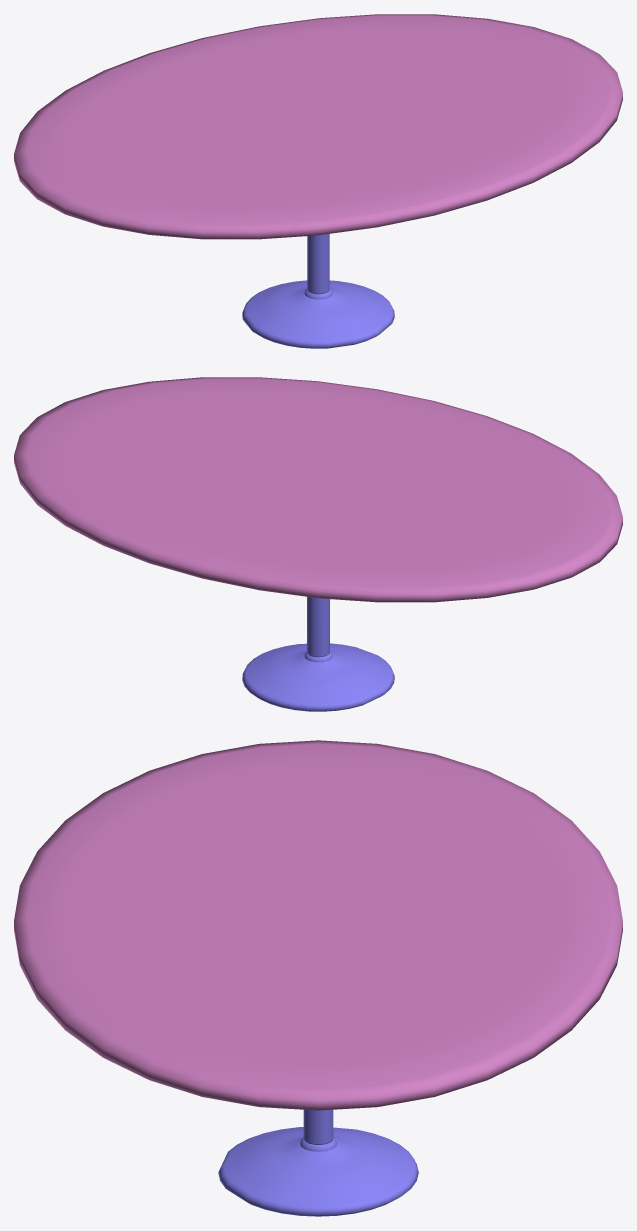
The model's file is PK_Table.fbx.
The picture shows the model from 3 angles, top to bottom: view 1: azimuth 30°, elevation 25°; view 2: azimuth 150°, elevation 25°; view 3: azimuth 270°, elevation 25°; orthographic projection. The views are drawn at different scales.
Parts seen in each view (by area): view 1: Object001; view 2: Object001; view 3: Object001.
Boxes of the visible parts, x1,y1,x2,y2 form: Object001: (14,14,622,348); Object001: (14,377,622,711); Object001: (14,740,622,1216).
Size of the model in its own units: 272 by 91.83 by 194.
